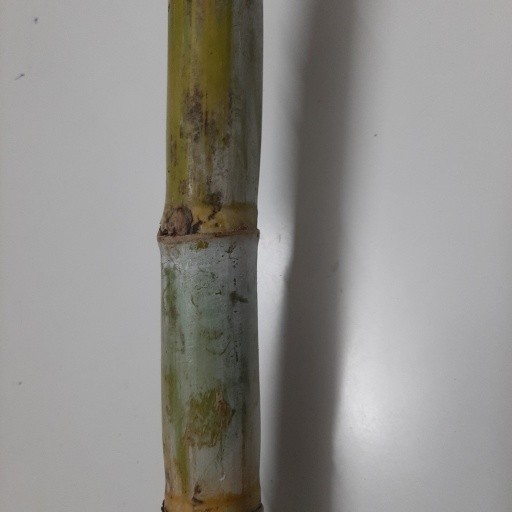Bud: (164, 206, 189, 235)
